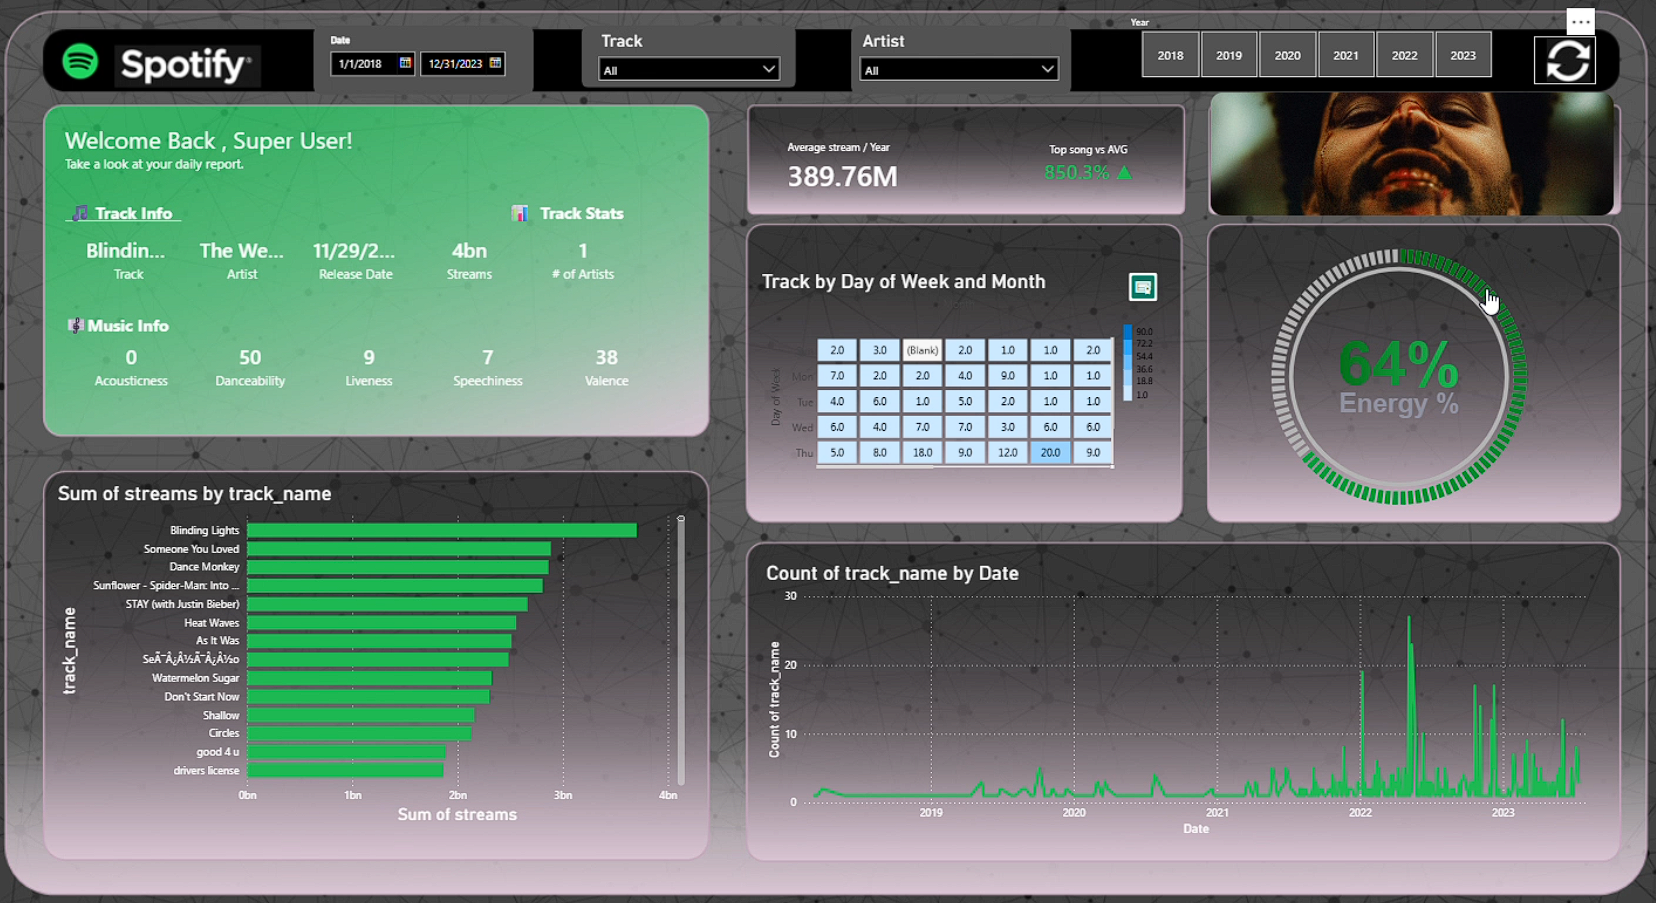

This screenshot's page, from the dashboard's own definition file:
{"tool":"powerbi","page":{"name":"Page 1","canvas":[1920,1080],"ordinal":0},"visuals":[{"type":"textbox","box":[91.8,158.3,703.6,339.2],"z":0},{"type":"shape","box":[378.6,52.9,250,78],"z":1000},{"type":"shape","box":[683.6,53.2,243.4,70.5],"z":2000},{"type":"shape","box":[990,52.9,250,78],"z":3000},{"type":"clusteredBarChart","fields":{"Category":["Spotify Dataset.track_name"],"Y":["Sum(Spotify Dataset.streams)"]},"box":[83.5,571,721.8,393.2],"z":4000},{"type":"lineChart","fields":{"Category":["Date.Date"],"Y":["CountNonNull(Spotify Dataset.track_name)"]},"box":[888.6,661.4,945.7,317.1],"z":5000},{"type":"slicer","fields":{"Values":["Spotify Dataset.track_name"]},"box":[693,54.5,226.1,69.2],"z":6000},{"type":"slicer","fields":{"Values":["Date.Date"]},"box":[385.7,58.5,236.7,65.2],"z":7000},{"type":"slicer","fields":{"Values":["Date.Year"]},"box":[1294.3,38.6,447.1,80],"z":8000},{"type":"cardVisual","fields":{"Data":["Min(Spotify Dataset.track_name)","Min(Spotify Dataset.artist(s)_name)","Min(Spotify Dataset.Date)","Sum(Spotify Dataset.streams)","Sum(Spotify Dataset.artist_count)"]},"box":[91.8,274,673,87.8],"z":9000},{"type":"cardVisual","fields":{"Data":["Sum(Spotify Dataset.acousticness_%)","Sum(Spotify Dataset.danceability_%)","Sum(Spotify Dataset.liveness_%)","Sum(Spotify Dataset.speechiness_%)","Sum(Spotify Dataset.valence_%)"]},"box":[92,374,704,132],"z":10000},{"type":"cardVisual","fields":{"Data":["Spotify Dataset._average stream per year"]},"box":[888.5,141.5,275.7,144.4],"z":11000},{"type":"cardVisual","fields":{"Data":["Spotify Dataset._top song vs AVG"]},"box":[1157.1,166.3,204.8,85.1],"z":12000},{"type":"htmlContent443BE3AD55E043BF878BED274D3A6855","fields":{"content":["Spotify Dataset._Image html"]},"box":[1392.6,123.7,477.5,150.3],"z":13000},{"type":"deneb7E15AEF80B9E4D4F8E12924291ECE89A","fields":{"dataset":["Spotify Dataset._parcent_val"]},"box":[1441.8,282,417.6,344.5],"z":14000},{"type":"HeatMap67B54F74B5374B9EA95AC568DC37B14C","fields":{"yAxis":["Date.Day of Week"],"xAxis":["Date.Month"],"Value":["Spotify Dataset.Track"]},"box":[882.8,329.3,458.1,250.5],"z":15000},{"type":"slicer","fields":{"Values":["Spotify Dataset.artist(s)_name"]},"box":[989.6,54.5,246.1,63.8],"z":16000},{"type":"actionButton","box":[1765.6,65.1,69.7,54.5],"z":17000}]}

Visuals, with their boxes on the page's 1920x1080 design canvas (x1, y1, x2, y2). These are canvas units, not pixel positions in the 1656x903 screenshot, which may show the page scaled, cropped or inside an application window:
textbox: 92 158 795 498
shape: 379 53 629 131
shape: 684 53 927 124
shape: 990 53 1240 131
clusteredBarChart - Spotify Dataset.track_name x Sum(Spotify Dataset.streams): 84 571 805 964
lineChart - Date.Date x CountNonNull(Spotify Dataset.track_name): 889 661 1834 978
slicer - Spotify Dataset.track_name: 693 54 919 124
slicer - Date.Date: 386 58 622 124
slicer - Date.Year: 1294 39 1741 119
cardVisual - Min(Spotify Dataset.track_name) x Min(Spotify Dataset.artist(s)_name): 92 274 765 362
cardVisual - Sum(Spotify Dataset.acousticness_%) x Sum(Spotify Dataset.danceability_%): 92 374 796 506
cardVisual - Spotify Dataset._average stream per year: 888 142 1164 286
cardVisual - Spotify Dataset._top song vs AVG: 1157 166 1362 251
htmlContent443BE3AD55E043BF878BED274D3A6855 - Spotify Dataset._Image html: 1393 124 1870 274
deneb7E15AEF80B9E4D4F8E12924291ECE89A - Spotify Dataset._parcent_val: 1442 282 1859 626
HeatMap67B54F74B5374B9EA95AC568DC37B14C - Date.Day of Week x Date.Month: 883 329 1341 580
slicer - Spotify Dataset.artist(s)_name: 990 54 1236 118
actionButton: 1766 65 1835 120
